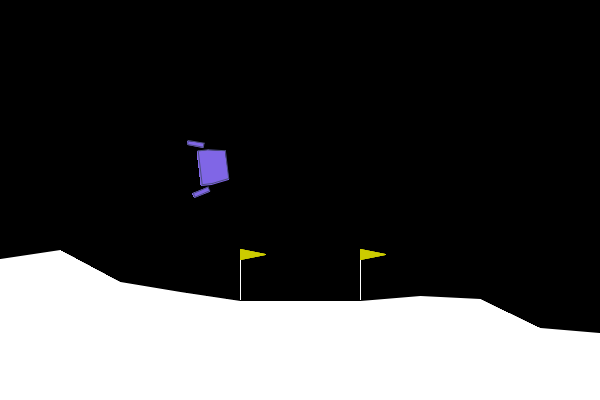lander: (185, 135, 232, 199)
